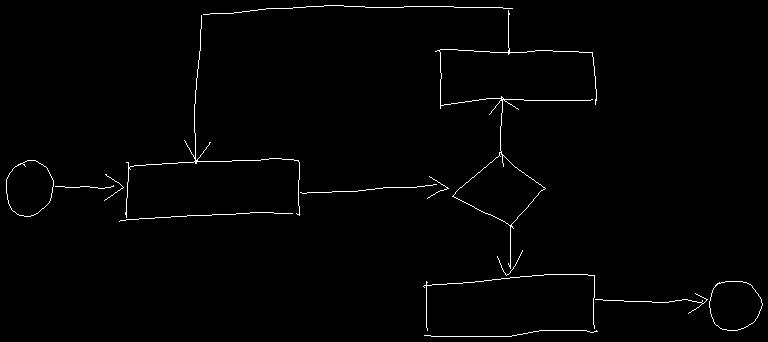arrow: (184, 5, 512, 163), (300, 176, 448, 198), (595, 293, 707, 313), (489, 96, 518, 166), (55, 174, 123, 200), (497, 224, 522, 275)
connection: (6, 160, 53, 216), (709, 281, 762, 330)
decision: (452, 152, 545, 228)
process: (119, 158, 299, 221), (423, 274, 597, 336), (435, 49, 596, 108)
